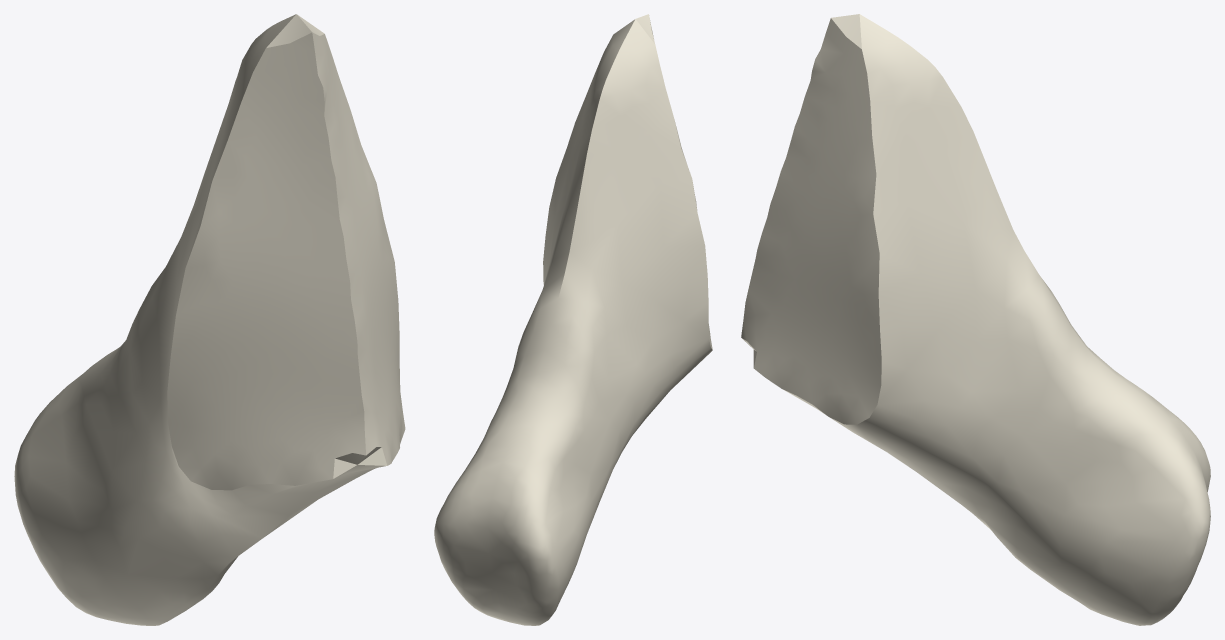
The model's file is fma10050_mm2402.glb.
3 views of the same model, side by side, from view 1: azimuth 30°, elevation 25°; view 2: azimuth 150°, elevation 25°; view 3: azimuth 270°, elevation 25° (orthographic). The views are drawn at different scales.
Visible parts, largest first — view 1: FMA10050_MM2402; view 2: FMA10050_MM2402; view 3: FMA10050_MM2402.
Boxes of the visible parts, bbox=[...] form: FMA10050_MM2402: bbox=[14, 14, 405, 625]; FMA10050_MM2402: bbox=[434, 14, 712, 625]; FMA10050_MM2402: bbox=[741, 14, 1210, 625].
Size of the model in its own units: 0.00952 by 0.0284 by 0.02.
